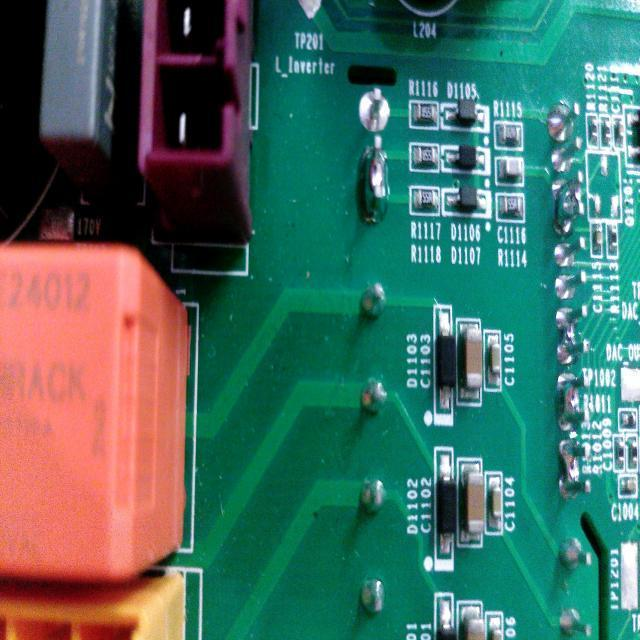Soldering shorted: (357, 135, 393, 230), (553, 296, 594, 371), (546, 168, 586, 242), (553, 370, 590, 436), (555, 438, 594, 500)
